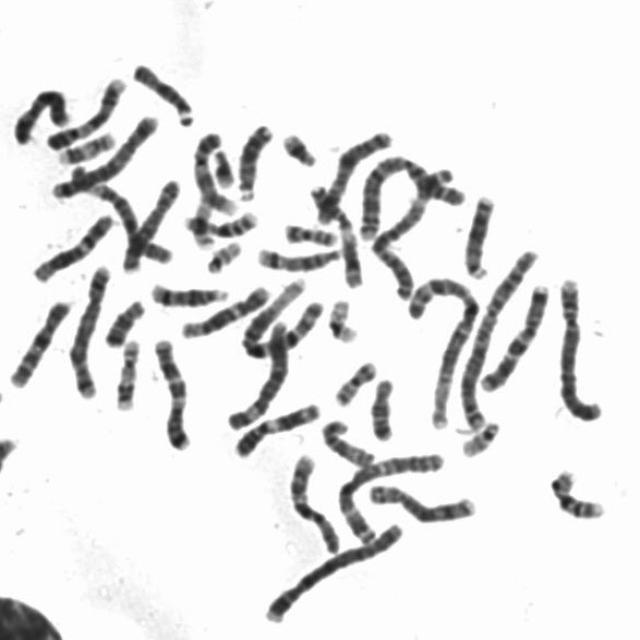A1: (402, 272, 490, 432), (234, 274, 325, 360)
A2: (450, 243, 542, 435), (354, 150, 464, 243)
A3: (362, 156, 458, 302), (332, 446, 448, 546)
B4: (260, 516, 408, 625), (554, 272, 607, 424)
B5: (46, 109, 161, 201), (64, 260, 114, 400)
C10: (5, 293, 76, 390), (284, 449, 342, 555)
C11: (306, 179, 366, 290), (229, 396, 324, 459)
C12: (27, 208, 117, 284), (176, 280, 272, 340)
C6: (64, 160, 176, 266), (223, 314, 291, 431)
C7: (474, 279, 552, 393), (148, 332, 194, 453)
C8: (118, 174, 182, 274), (363, 478, 479, 524)
C9: (41, 72, 128, 152), (186, 125, 239, 218)
D13: (232, 118, 276, 202), (459, 189, 498, 280)
D14: (253, 241, 347, 273), (145, 276, 232, 309)
D15: (128, 57, 198, 128), (316, 413, 378, 470)
E16: (546, 464, 608, 522), (180, 205, 260, 238)
E17: (52, 125, 118, 167), (110, 333, 143, 413)
E18: (99, 294, 147, 349), (365, 372, 398, 442)
F19: (323, 293, 361, 345), (189, 193, 218, 250)
F20: (328, 355, 381, 408), (279, 217, 340, 247)
G21: (277, 126, 320, 169), (208, 143, 237, 190)
G22: (456, 415, 502, 459), (202, 236, 244, 274)
X: (308, 124, 394, 227), (9, 83, 72, 147)
